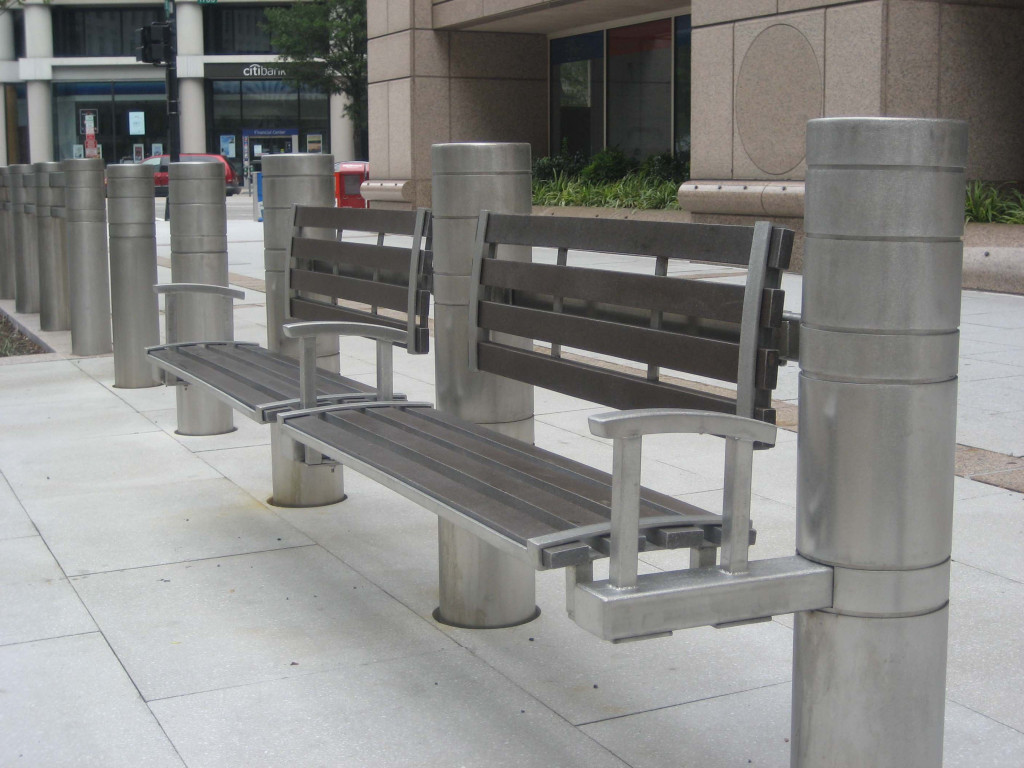bench: (230, 208, 782, 620)
bollard: (800, 124, 953, 763), (108, 164, 162, 385), (165, 164, 228, 279)
